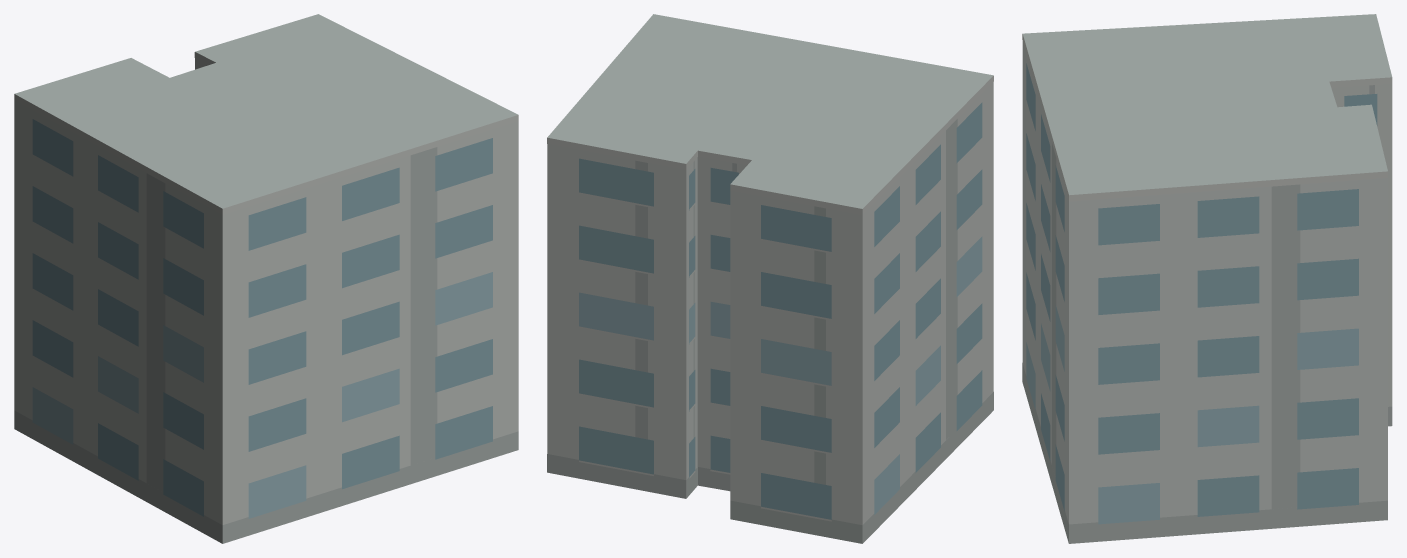
File: survey-upis-32574419.glb
3 renders of one model, left to right at view 1: azimuth 30°, elevation 25°; view 2: azimuth 150°, elevation 25°; view 3: azimuth 270°, elevation 25°, orthographic. The views are drawn at different scales.
Visible parts, largest first — view 1: survey-upis-32574419.tmp; view 2: survey-upis-32574419.tmp; view 3: survey-upis-32574419.tmp.
Part boxes in pixels (<box>): survey-upis-32574419.tmp: <box>14,14,518,543</box>; survey-upis-32574419.tmp: <box>547,14,993,543</box>; survey-upis-32574419.tmp: <box>1022,14,1392,543</box>.
Size of the model in its own units: 14.49 by 13 by 12.5.
